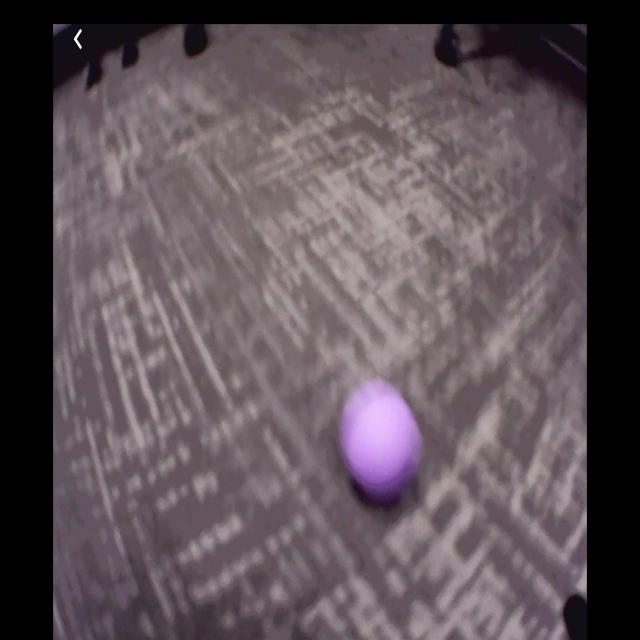ball: (345, 384, 423, 497)
